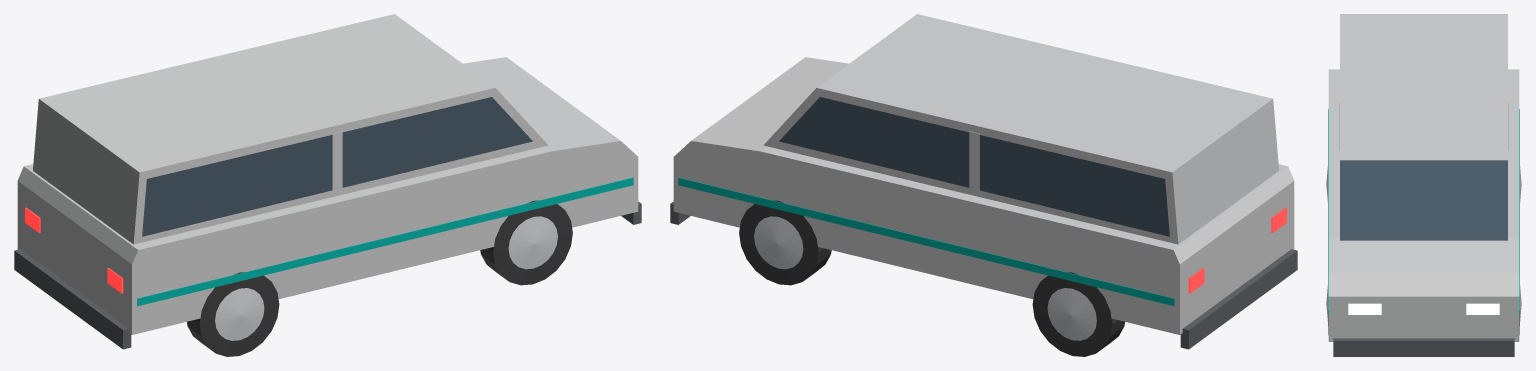
File: nexfleet-4x4.glb
The picture shows the model from 3 angles, left to right: view 1: azimuth 30°, elevation 25°; view 2: azimuth 150°, elevation 25°; view 3: azimuth 270°, elevation 25°; orthographic projection. The views are drawn at different scales.
Visible parts, largest first — view 1: NexFleet 4x4; view 2: NexFleet 4x4; view 3: NexFleet 4x4.
Boxes of the visible parts, bbox=[...] form: NexFleet 4x4: bbox=[14, 14, 641, 356]; NexFleet 4x4: bbox=[670, 14, 1297, 356]; NexFleet 4x4: bbox=[1326, 14, 1521, 356].
Size of the model in its own units: 5.07 by 1.88 by 1.99.
